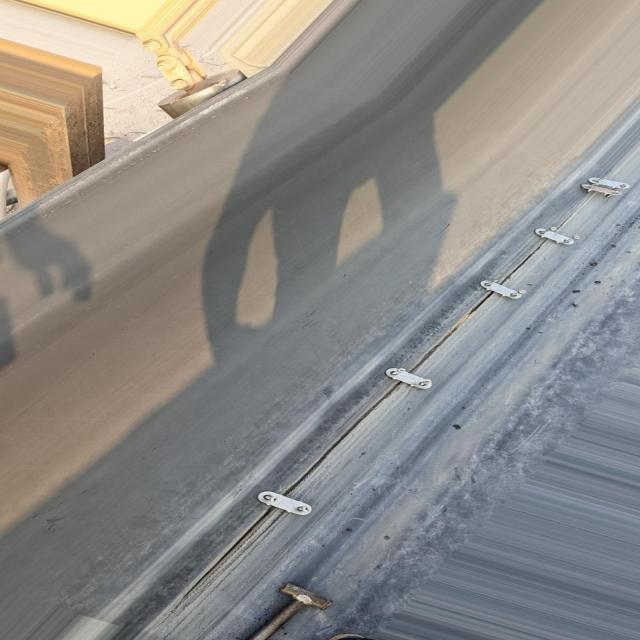Other Objects: (248, 580, 342, 640)
Roller: (157, 65, 250, 121)
patch work: (152, 165, 640, 619)
